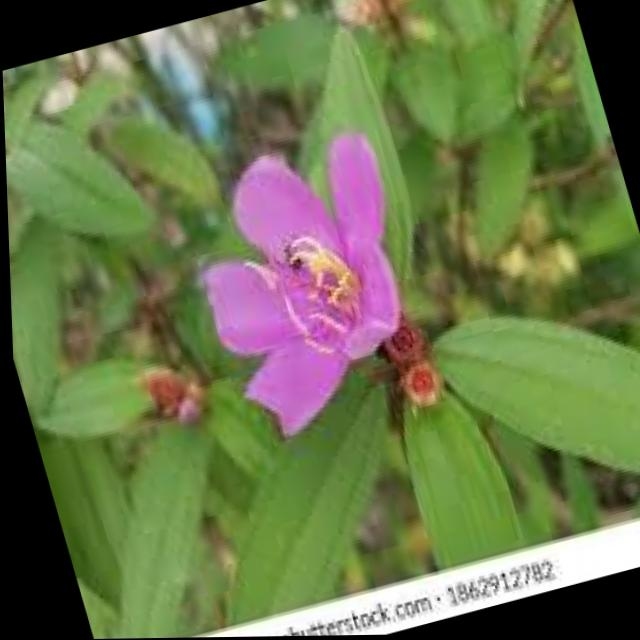Flower: (153, 114, 452, 431)
